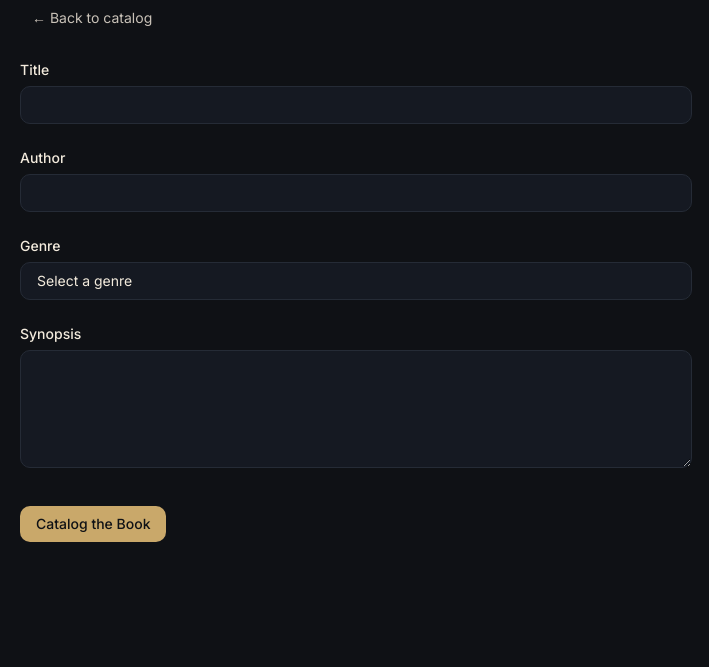
BookForm › shows required-field errors when submitting an empty form
Step 1. Click the button "Catalog the Book" → (93,524), box [20,506,166,542]
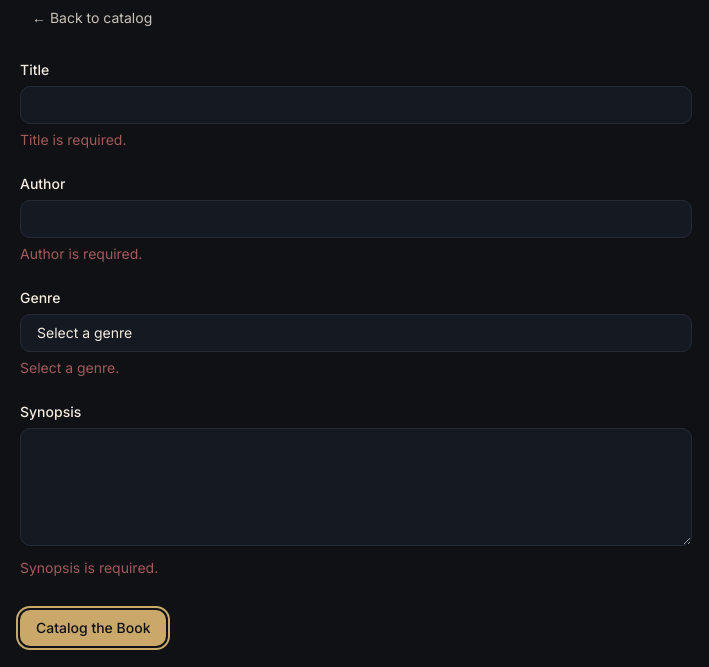
expect the text "Title is required." is shown: met, box [20,131,126,148]
expect the text "Author is required." is shown: met, box [20,245,142,262]
expect the text "Select a genre." is shown: met, box [20,359,119,376]
